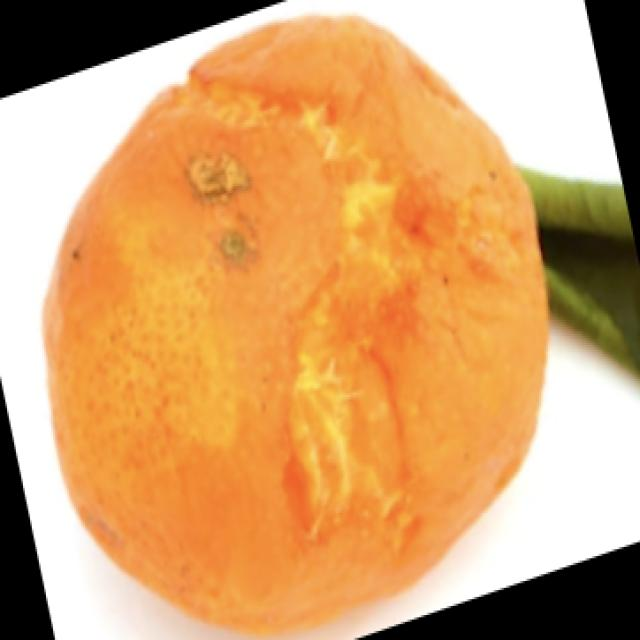sedikit_busuk: (41, 14, 550, 625)
